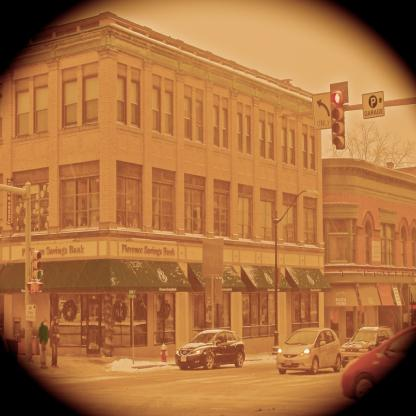Car: (343, 322, 415, 403), (174, 325, 246, 371), (276, 329, 344, 371), (342, 326, 390, 360)
